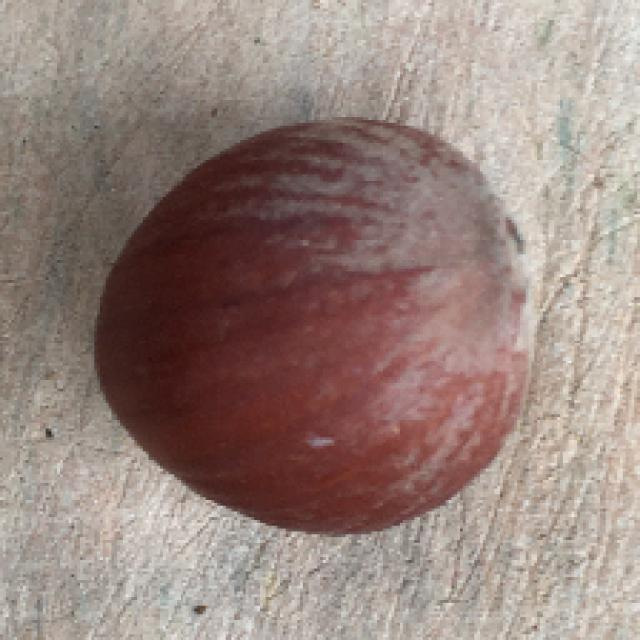qualityHazelnut: (90, 100, 547, 544)
